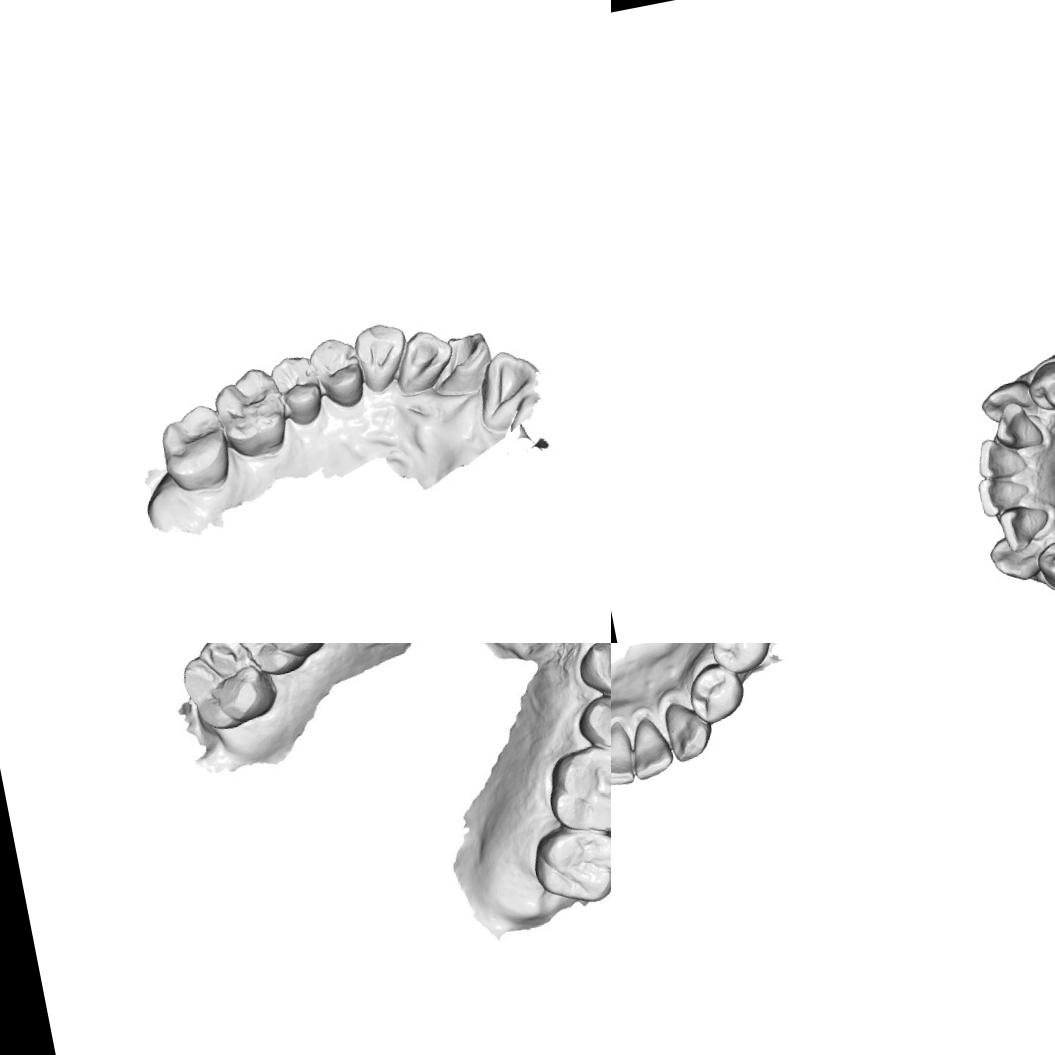canine: (350, 318, 415, 396), (660, 694, 717, 762), (984, 529, 1050, 586), (975, 374, 1040, 426)
incisor: (466, 341, 552, 438), (421, 327, 498, 402), (387, 322, 460, 398), (624, 711, 678, 783), (995, 498, 1054, 556), (988, 396, 1046, 454), (970, 431, 1030, 484), (973, 468, 1033, 520), (611, 716, 639, 789)
molar: (175, 643, 282, 733), (207, 362, 294, 466), (526, 813, 611, 912), (152, 400, 236, 498), (546, 740, 611, 839), (221, 643, 329, 682)
premolar: (304, 331, 370, 414), (266, 348, 329, 430), (682, 656, 750, 727), (568, 685, 611, 764), (705, 643, 774, 677), (573, 643, 611, 704), (1021, 355, 1055, 420), (1031, 534, 1055, 596)
